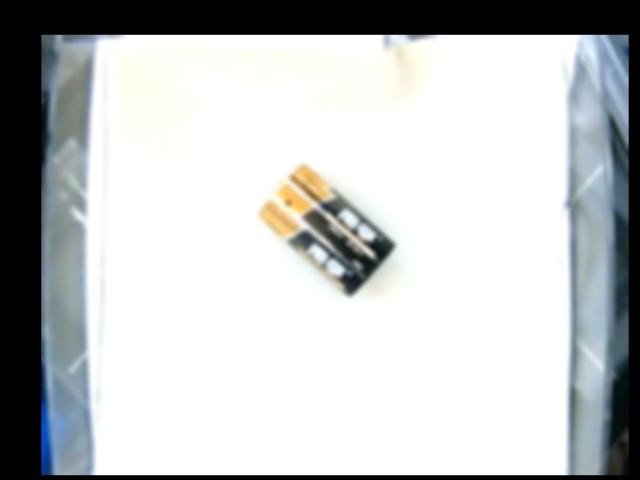Battery: (261, 164, 390, 297)
